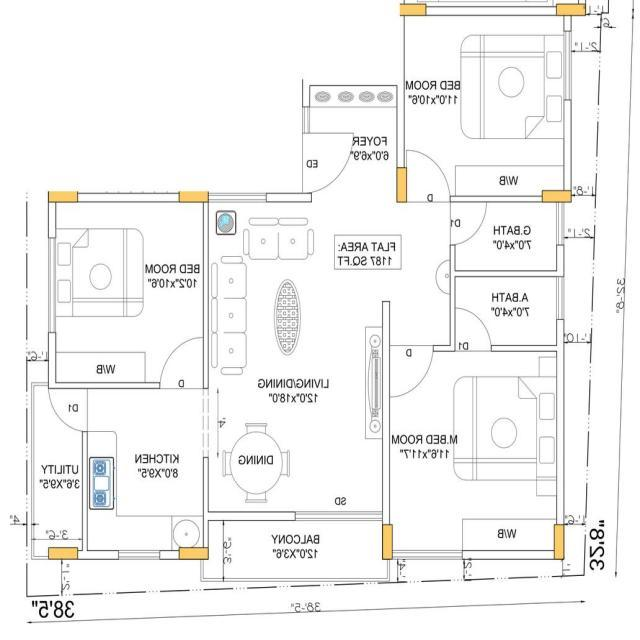Balcony-Sitout: (206, 511, 389, 577)
Bedroom: (397, 7, 575, 206), (43, 192, 212, 386)
Bedroom with Toilet: (385, 274, 563, 560)
Dining: (214, 420, 296, 508)
Enterance-Foyer: (285, 127, 393, 194)
Kitchen: (82, 382, 210, 563)
Living: (209, 203, 387, 388)
Toilet: (446, 273, 564, 352), (449, 193, 566, 272)
Utility: (25, 382, 89, 559)
